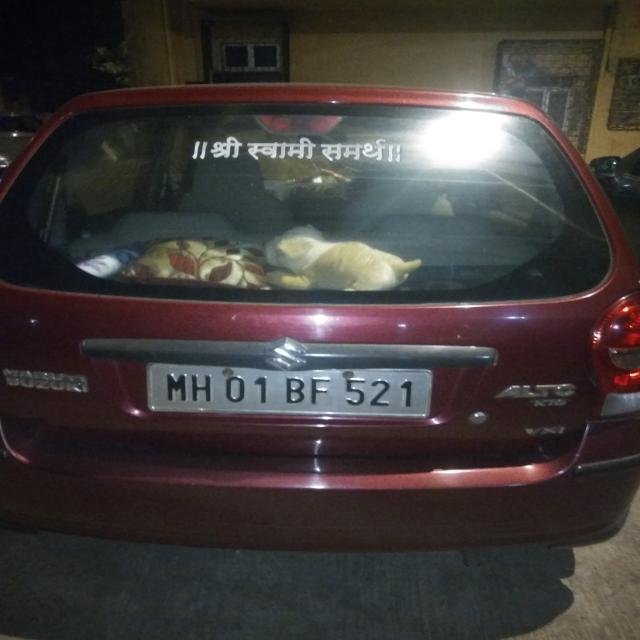Number-Plate: (163, 369, 430, 414)
